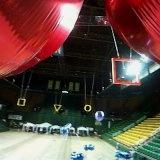Orange_Square_GShape: (111, 57, 141, 86)
Purple_Balloon: (95, 110, 105, 122)
Yellow_Circle_GShape: (84, 104, 92, 112)
Yellow_Square_GShape: (18, 98, 27, 106)
Yellow_Triangle_Gshape: (54, 104, 62, 111)
